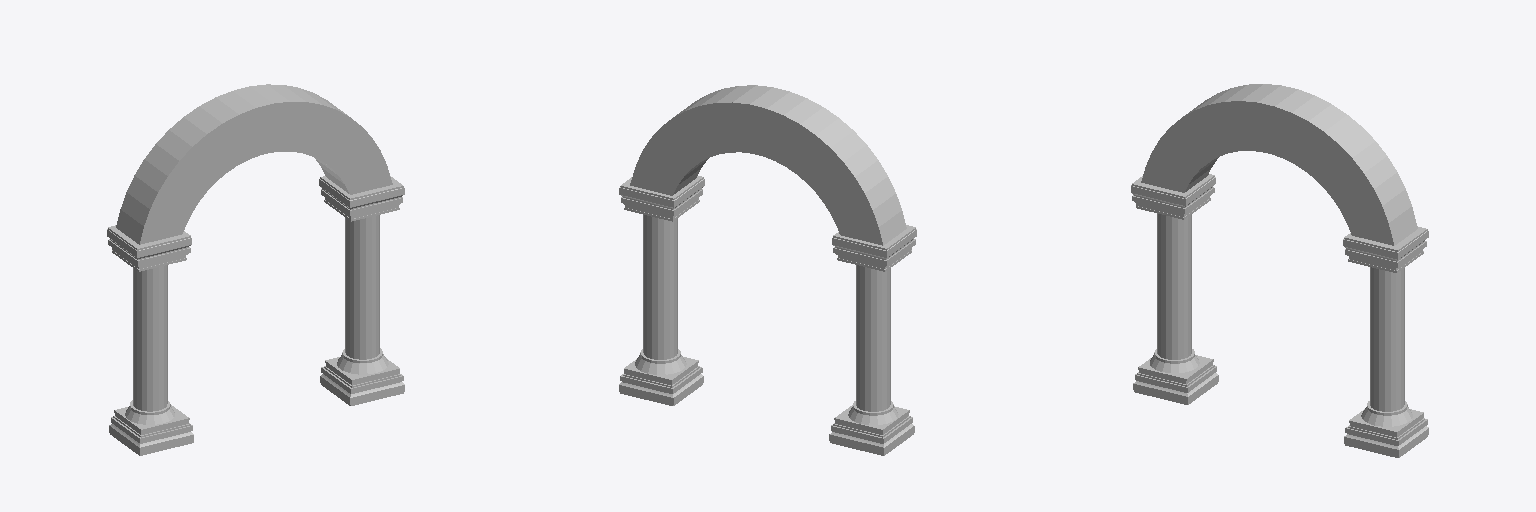
The model's file is ArcoEntrada.obj.
3 views of the same model, side by side, from view 1: azimuth 30°, elevation 25°; view 2: azimuth 150°, elevation 25°; view 3: azimuth 330°, elevation 25° (orthographic).
Visible parts, largest first — view 1: ArcoDeEntrada; view 2: ArcoDeEntrada; view 3: ArcoDeEntrada.
Part boxes in pixels (bbox=[...]): ArcoDeEntrada: bbox=[107, 84, 404, 455]; ArcoDeEntrada: bbox=[619, 85, 916, 455]; ArcoDeEntrada: bbox=[1131, 84, 1428, 457].
Bounding box in the file's own units: 30.31 × 34.37 × 5.96.